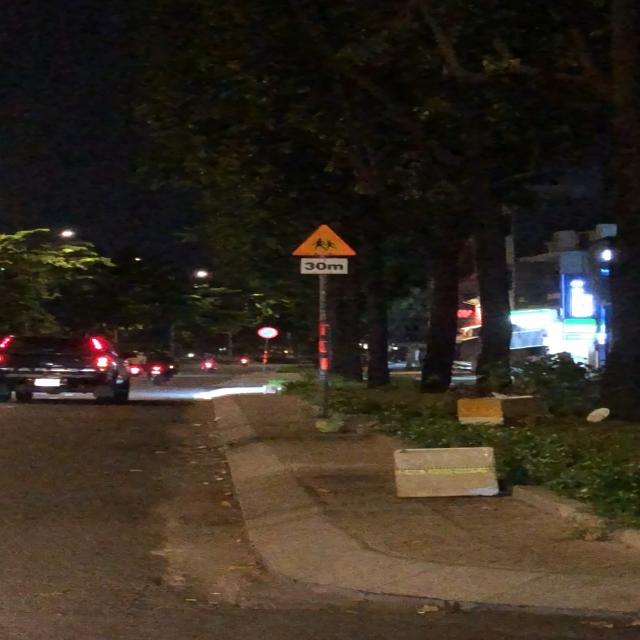Bien bao tre em: (291, 223, 365, 258)
